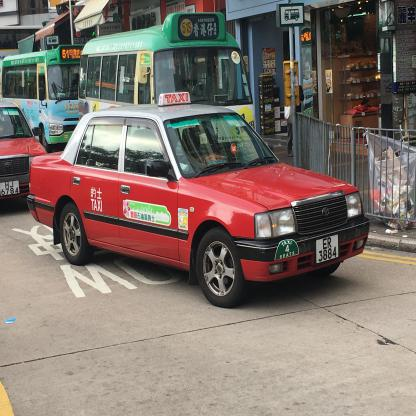taxi: (27, 92, 376, 311)
